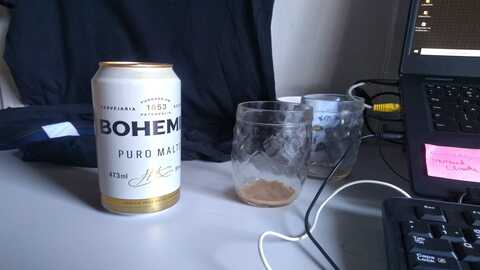bohemia: (88, 59, 186, 218)
